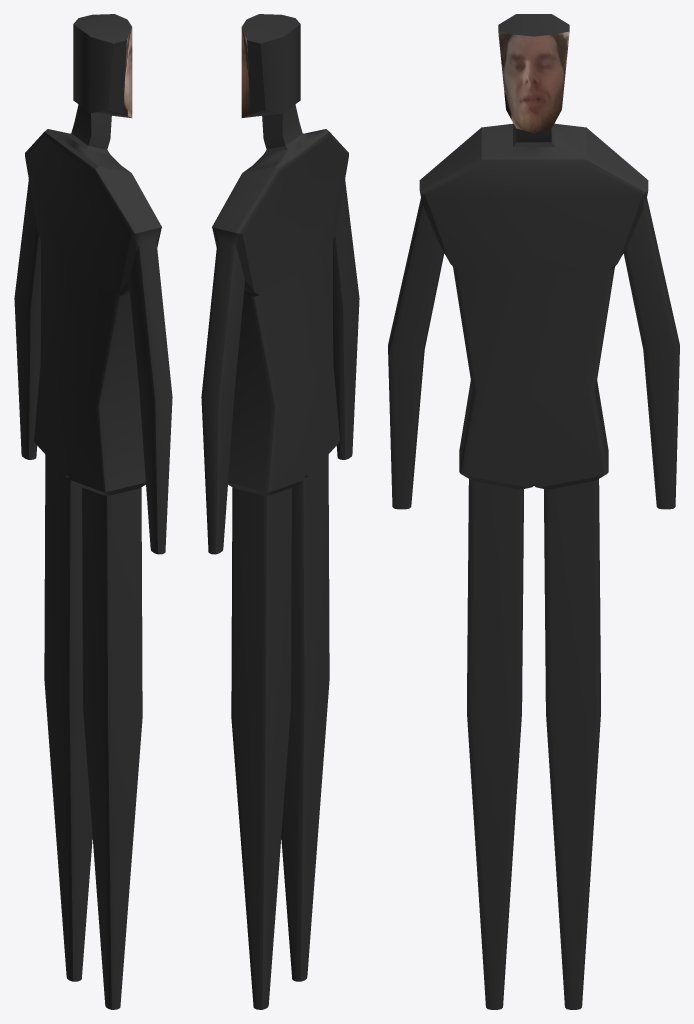
Rendered from dog_dead.fbx.
The picture shows the model from 3 angles, left to right: view 1: azimuth 30°, elevation 25°; view 2: azimuth 150°, elevation 25°; view 3: azimuth 270°, elevation 25°; orthographic projection. The views are drawn at different scales.
Visible parts, largest first — view 1: dog_dead; view 2: dog_dead; view 3: dog_dead.
Part boxes in pixels (x1,y1,x2,y2): dog_dead: (14,14,172,1009); dog_dead: (201,14,359,1009); dog_dead: (388,14,679,1009).
Size of the model in its own units: 0.7035 by 10.93 by 2.93.
